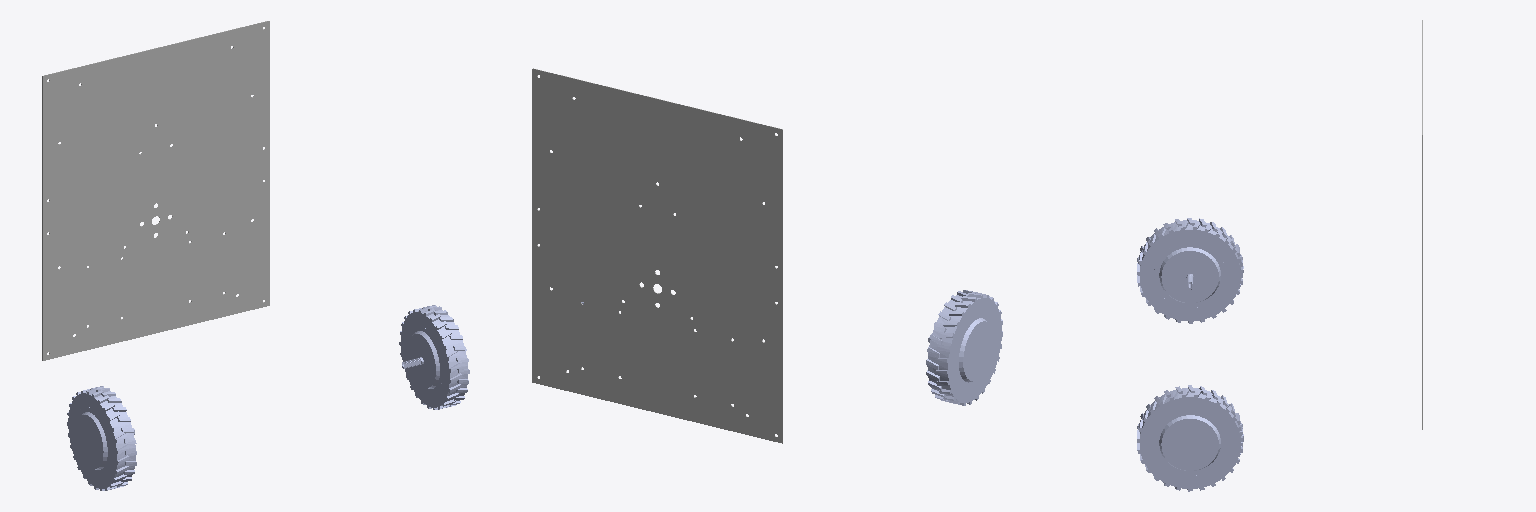
robot.urdf — mesh_test_3:
<?xml version="1.0" encoding="utf-8"?>
<!-- This URDF was automatically created by SolidWorks to URDF Exporter! Originally created by [author] ([email redacted]) 
     Commit Version: 1.6.0-4-g7f85cfe  Build Version: 1.6.7995.38578
     For more information, please see http://wiki.ros.org/sw_urdf_exporter -->
<robot
  name="mesh_test_3">
  <link
    name="base_link">
    <inertial>
      <origin
        xyz="-0.0018271 -0.042734 0.08863"
        rpy="0 0 0" />
      <mass
        value="17.284" />
      <inertia
        ixx="0.17804"
        ixy="0.0006185"
        ixz="-0.00012294"
        iyy="0.14971"
        iyz="-0.00052334"
        izz="0.28135" />
    </inertial>
    <visual>
      <origin
        xyz="0 0 0"
        rpy="0 0 0" />
      <geometry>
        <mesh
          filename="package://mesh_test_3/meshes/base_link.STL" />
      </geometry>
      <material
        name="">
        <color
          rgba="0.75294 0.75294 0.75294 1" />
      </material>
    </visual>
    <collision>
      <origin
        xyz="0 0 0"
        rpy="0 0 0" />
      <geometry>
        <mesh
          filename="package://mesh_test_3/meshes/base_link.STL" />
      </geometry>
    </collision>
  </link>
  <link
    name="left_rear_wheel_link">
    <inertial>
      <origin
        xyz="0.000118305531411345 1.74537939656716E-10 -5.39893773576772E-07"
        rpy="0 0 0" />
      <mass
        value="1.38515667925412" />
      <inertia
        ixx="0.00608670649415379"
        ixy="-1.30467261707286E-10"
        ixz="5.0163442764174E-08"
        iyy="0.00331734803830799"
        iyz="5.84204525291342E-11"
        izz="0.00331733096263903" />
    </inertial>
    <visual>
      <origin
        xyz="0 0 0"
        rpy="0 0 0" />
      <geometry>
        <mesh
          filename="package://mesh_test_3/meshes/left_rear_wheel_link.STL" />
      </geometry>
      <material
        name="">
        <color
          rgba="0.792156862745098 0.819607843137255 0.933333333333333 1" />
      </material>
    </visual>
    <collision>
      <origin
        xyz="0 0 0"
        rpy="0 0 0" />
      <geometry>
        <mesh
          filename="package://mesh_test_3/meshes/left_rear_wheel_link.STL" />
      </geometry>
    </collision>
  </link>
  <joint
    name="left_rear_wheel_joint"
    type="continuous">
    <origin
      xyz="-0.41008 0.4318 -0.2667"
      rpy="0 0 0" />
    <parent
      link="base_link" />
    <child
      link="left_rear_wheel_link" />
    <axis
      xyz="-1 0 0" />
  </joint>
  <link
    name="right_rear_wheel_link">
    <inertial>
      <origin
        xyz="-0.000118305531393859 6.41474801055253E-09 -5.476164268714E-07"
        rpy="0 0 0" />
      <mass
        value="1.38515667925022" />
      <inertia
        ixx="0.00608670649414288"
        ixy="-1.51613486826161E-10"
        ixz="-5.01382976676796E-08"
        iyy="0.00331734776436555"
        iyz="-1.68192191461064E-11"
        izz="0.00331733123657076" />
    </inertial>
    <visual>
      <origin
        xyz="0 0 0"
        rpy="0 0 0" />
      <geometry>
        <mesh
          filename="package://mesh_test_3/meshes/right_rear_wheel_link.STL" />
      </geometry>
      <material
        name="">
        <color
          rgba="0.792156862745098 0.819607843137255 0.933333333333333 1" />
      </material>
    </visual>
    <collision>
      <origin
        xyz="0 0 0"
        rpy="0 0 0" />
      <geometry>
        <mesh
          filename="package://mesh_test_3/meshes/right_rear_wheel_link.STL" />
      </geometry>
    </collision>
  </link>
  <joint
    name="right_rear_wheel_joint"
    type="continuous">
    <origin
      xyz="0.41014 0.4318 -0.2667"
      rpy="0 0 0" />
    <parent
      link="base_link" />
    <child
      link="right_rear_wheel_link" />
    <axis
      xyz="1 0 0" />
  </joint>
  <link
    name="left_middle_wheel_link">
    <inertial>
      <origin
        xyz="0.000118305531391638 -4.10783555966555E-07 -3.64957963128187E-07"
        rpy="0 0 0" />
      <mass
        value="1.38515667924975" />
      <inertia
        ixx="0.00608670649414168"
        ixy="3.79376286142156E-08"
        ixz="3.27726783483504E-08"
        iyy="0.00331733834943749"
        iyz="-8.20130896087818E-09"
        izz="0.00331734065149748" />
    </inertial>
    <visual>
      <origin
        xyz="0 0 0"
        rpy="0 0 0" />
      <geometry>
        <mesh
          filename="package://mesh_test_3/meshes/left_middle_wheel_link.STL" />
      </geometry>
      <material
        name="">
        <color
          rgba="0.792156862745098 0.819607843137255 0.933333333333333 1" />
      </material>
    </visual>
    <collision>
      <origin
        xyz="0 0 0"
        rpy="0 0 0" />
      <geometry>
        <mesh
          filename="package://mesh_test_3/meshes/left_middle_wheel_link.STL" />
      </geometry>
    </collision>
  </link>
  <joint
    name="left_middle_wheel_joint"
    type="continuous">
    <origin
      xyz="-0.410080546831398 0 -0.266700079325523"
      rpy="0 0 0" />
    <parent
      link="base_link" />
    <child
      link="left_middle_wheel_link" />
    <axis
      xyz="-1 0 0" />
  </joint>
  <link
    name="right_middle_wheel_link">
    <inertial>
      <origin
        xyz="-0.000118305531421892 -4.11470921537323E-07 -3.49788244202731E-07"
        rpy="0 0 0" />
      <mass
        value="1.38515667925641" />
      <inertia
        ixx="0.00608670649415985"
        ixy="-3.81060675117206E-08"
        ixz="-3.26231551854283E-08"
        iyy="0.00331733827450242"
        iyz="-8.43766950774054E-09"
        izz="0.00331734072645102" />
    </inertial>
    <visual>
      <origin
        xyz="0 0 0"
        rpy="0 0 0" />
      <geometry>
        <mesh
          filename="package://mesh_test_3/meshes/right_middle_wheel_link.STL" />
      </geometry>
      <material
        name="">
        <color
          rgba="0.792156862745098 0.819607843137255 0.933333333333333 1" />
      </material>
    </visual>
    <collision>
      <origin
        xyz="0 0 0"
        rpy="0 0 0" />
      <geometry>
        <mesh
          filename="package://mesh_test_3/meshes/right_middle_wheel_link.STL" />
      </geometry>
    </collision>
  </link>
  <joint
    name="right_middle_wheel_joint"
    type="continuous">
    <origin
      xyz="0.41014 0 -0.2667"
      rpy="0 0 0" />
    <parent
      link="base_link" />
    <child
      link="right_middle_wheel_link" />
    <axis
      xyz="1 0 0" />
  </joint>
  <link
    name="left_front_wheel_link">
    <inertial>
      <origin
        xyz="0.000155212043926767 9.00264912617743E-09 -5.47509620918429E-07"
        rpy="0 0 0" />
      <mass
        value="1.38515667925253" />
      <inertia
        ixx="0.00608670649414915"
        ixy="-1.51546150590042E-10"
        ixz="5.01389386245234E-08"
        iyy="0.00331734776435004"
        iyz="1.79208089512316E-11"
        izz="0.00331733123659271" />
    </inertial>
    <visual>
      <origin
        xyz="0 0 0"
        rpy="0 0 0" />
      <geometry>
        <mesh
          filename="package://mesh_test_3/meshes/left_front_wheel_link.STL" />
      </geometry>
      <material
        name="">
        <color
          rgba="0.792156862745098 0.819607843137255 0.933333333333333 1" />
      </material>
    </visual>
    <collision>
      <origin
        xyz="0 0 0"
        rpy="0 0 0" />
      <geometry>
        <mesh
          filename="package://mesh_test_3/meshes/left_front_wheel_link.STL" />
      </geometry>
    </collision>
  </link>
  <joint
    name="left_front_wheel_joint"
    type="continuous">
    <origin
      xyz="-0.37202 -0.43504 -0.26758"
      rpy="0 0 0" />
    <parent
      link="base_link" />
    <child
      link="left_front_wheel_link" />
    <axis
      xyz="1 0 0" />
  </joint>
  <link
    name="right_front_wheel_link">
    <inertial>
      <origin
        xyz="-0.000118305531393803 6.41418224089918E-09 -5.47616426260777E-07"
        rpy="0 0 0" />
      <mass
        value="1.38515667925022" />
      <inertia
        ixx="0.0060867064941429"
        ixy="-1.51665263584896E-10"
        ixz="-5.01382975359495E-08"
        iyy="0.00331734776436552"
        iyz="-1.6836566581745E-11"
        izz="0.00331733123657081" />
    </inertial>
    <visual>
      <origin
        xyz="0 0 0"
        rpy="0 0 0" />
      <geometry>
        <mesh
          filename="package://mesh_test_3/meshes/right_front_wheel_link.STL" />
      </geometry>
      <material
        name="">
        <color
          rgba="0.792156862745098 0.819607843137255 0.933333333333333 1" />
      </material>
    </visual>
    <collision>
      <origin
        xyz="0 0 0"
        rpy="0 0 0" />
      <geometry>
        <mesh
          filename="package://mesh_test_3/meshes/right_front_wheel_link.STL" />
      </geometry>
    </collision>
  </link>
  <joint
    name="right_front_wheel_joint"
    type="continuous">
    <origin
      xyz="0.37204 -0.43504 -0.26758"
      rpy="0 0 0" />
    <parent
      link="base_link" />
    <child
      link="right_front_wheel_link" />
    <axis
      xyz="1 0 0" />
  </joint>
</robot>

--- Facts derived from the render (not from the file) ---
3 views of the same robot in one strip: view 1: azimuth 30°, elevation 25°; view 2: azimuth 150°, elevation 25°; view 3: azimuth 270°, elevation 25° (orthographic).
Robot: mesh_test_3 — 7 links, 6 joints (6 continuous); root link base_link; default pose: every joint at zero.
Links seen in each view (by area): view 1: base_link, left_front_wheel_link, right_front_wheel_link; view 2: base_link, left_front_wheel_link; view 3: left_front_wheel_link, right_front_wheel_link.
Link boxes in pixels (bbox=[...]): base_link: bbox=[42, 21, 269, 360]; left_front_wheel_link: bbox=[67, 386, 136, 490]; right_front_wheel_link: bbox=[399, 305, 469, 409]; base_link: bbox=[532, 68, 782, 443]; left_front_wheel_link: bbox=[926, 290, 1002, 405]; left_front_wheel_link: bbox=[1137, 218, 1243, 323]; right_front_wheel_link: bbox=[1137, 385, 1243, 491].
Bounding box of the posed robot: 0.8001 × 0.5366 × 0.6724 m (x, y, z).
3 mesh visuals loaded from 7 distinct referenced files (3 binary STL); not drawn: 4 (reference not matched to a file when rendering).